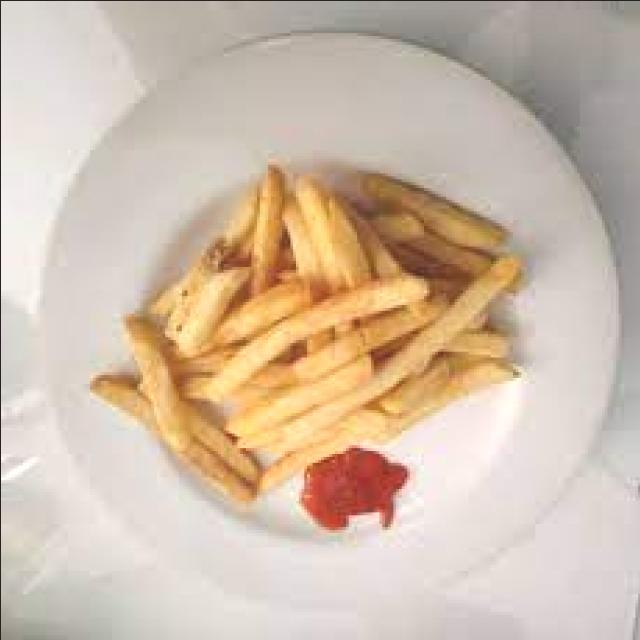kentang goreng: (89, 161, 523, 508)
